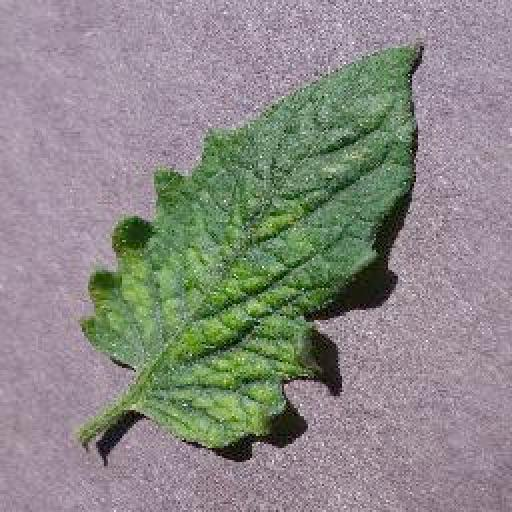disease_tomato: (78, 40, 424, 446)
